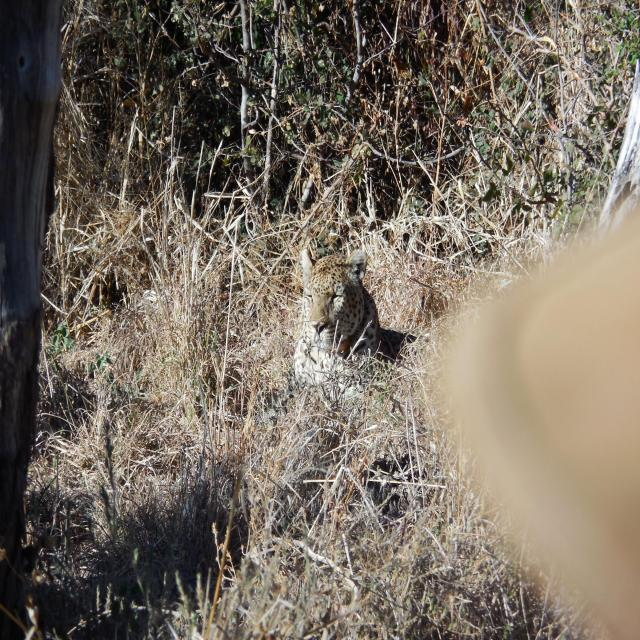Leopard: (306, 249, 401, 374)
